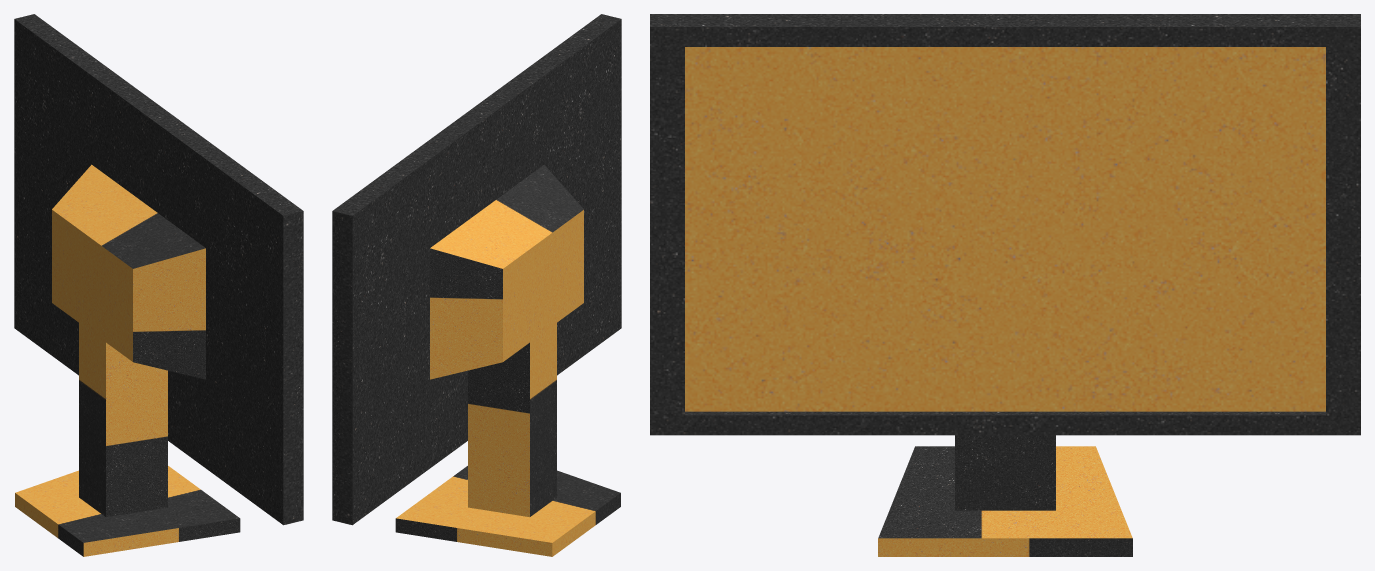
File: Monitor.fbx
The picture shows the model from 3 angles, left to right: view 1: azimuth 30°, elevation 25°; view 2: azimuth 150°, elevation 25°; view 3: azimuth 270°, elevation 25°; orthographic projection. The views are drawn at different scales.
Visible parts, largest first — view 1: Monitor; view 2: Monitor; view 3: Monitor.
Part boxes in pixels (left/top/right/bottom): Monitor: left=14, top=14, right=303, bottom=556; Monitor: left=332, top=14, right=621, bottom=556; Monitor: left=650, top=14, right=1360, bottom=556.
Size of the model in its own units: 20.49 by 53.53 by 66.95.
